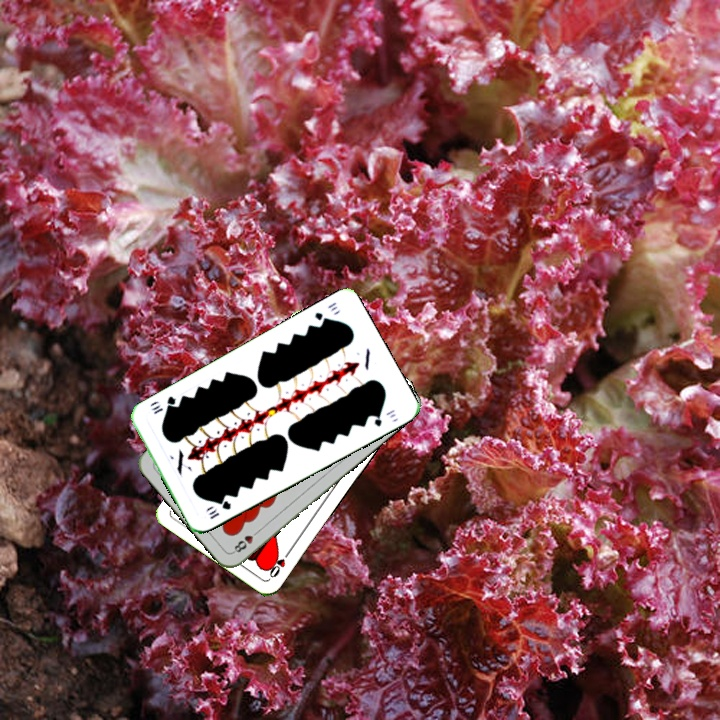G10: (310, 298, 340, 326), (205, 496, 234, 522)
H8: (229, 525, 263, 555)
HO: (265, 545, 294, 581)
